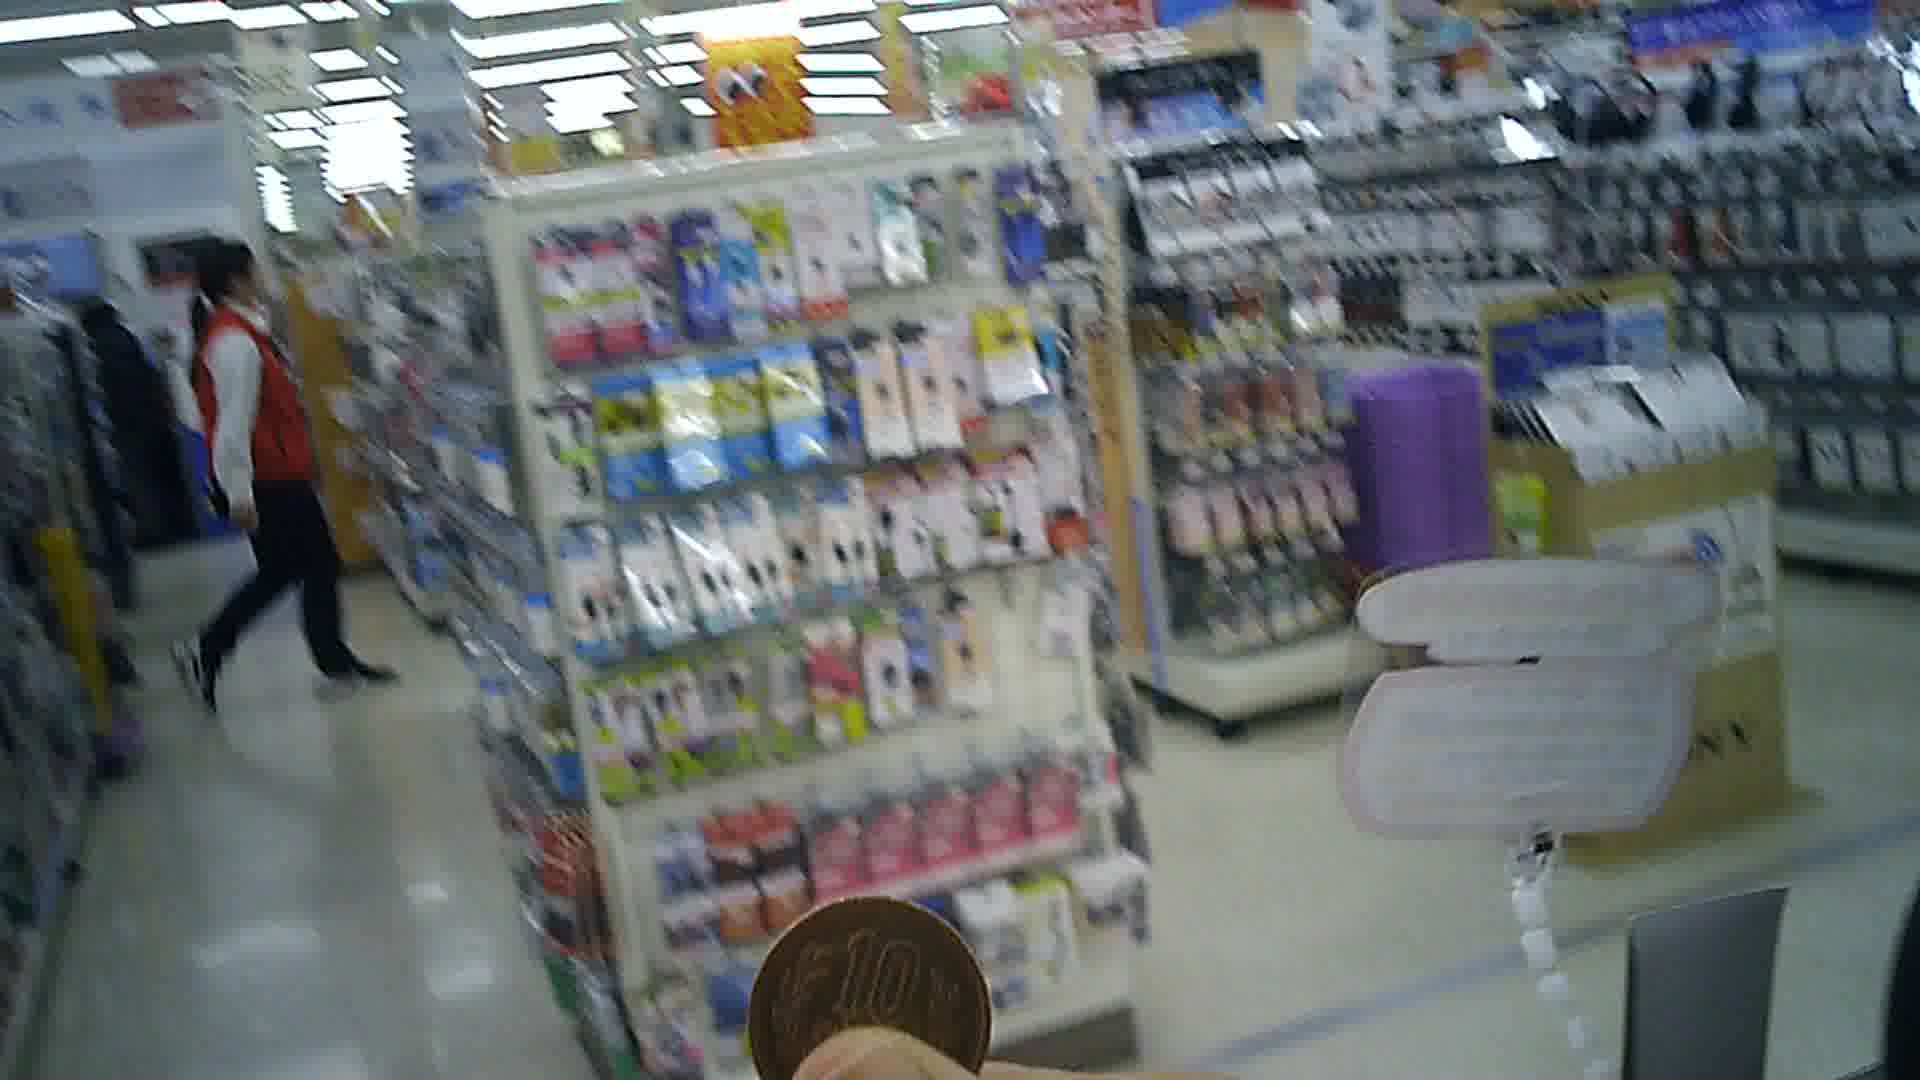10 Yen: (741, 891, 996, 1079)
